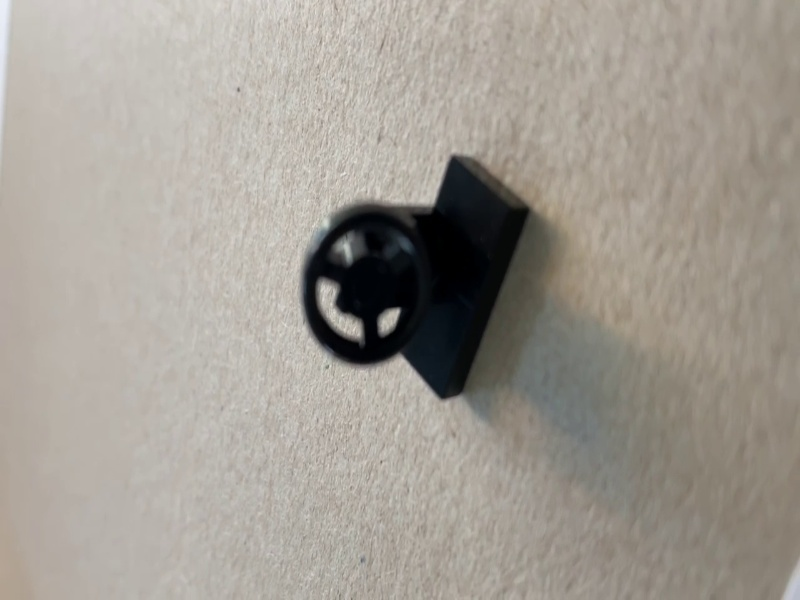steering wheel: (303, 153, 533, 402)
